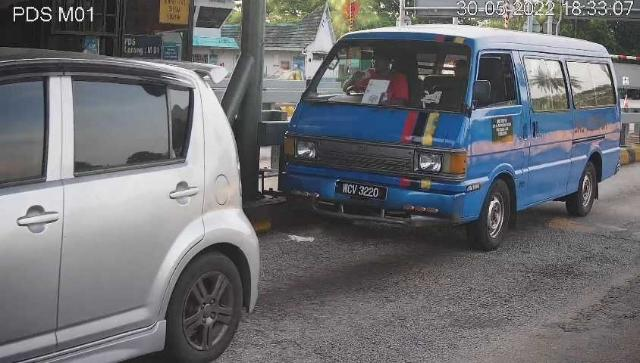License_Plate: (335, 180, 389, 203)
van: (280, 25, 623, 252)
